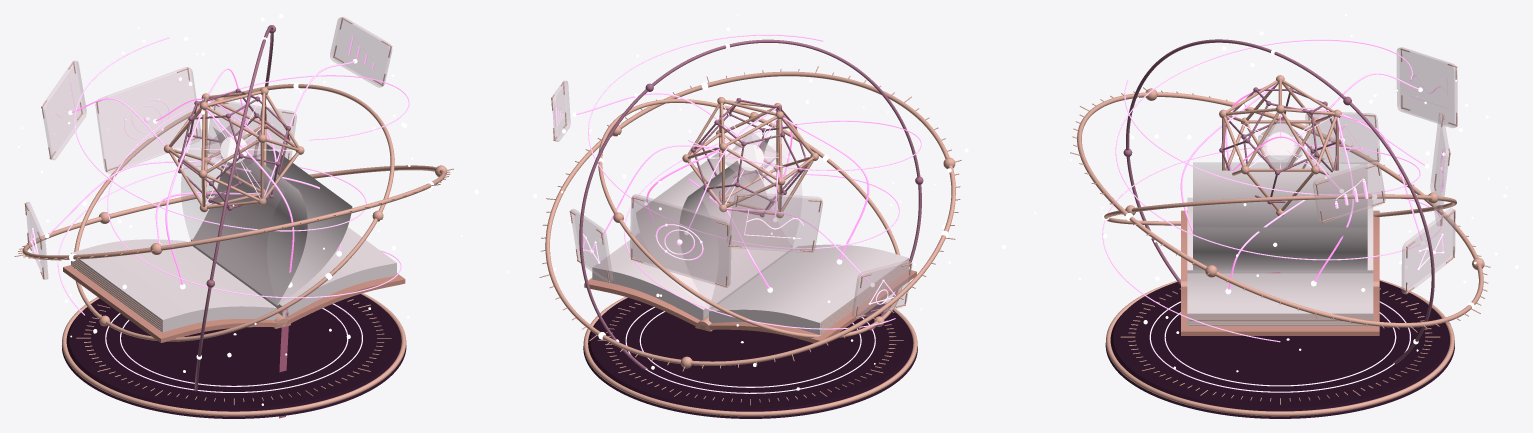
The model's file is knowledge-core.glb.
The picture shows the model from 3 angles, left to right: view 1: azimuth 30°, elevation 25°; view 2: azimuth 150°, elevation 25°; view 3: azimuth 270°, elevation 25°; orthographic projection. The views are drawn at different scales.
Visible parts, largest first — view 1: Book, Base, Lattice, Panel1, Paths, Ring1, Ring3, Panel4, Panel3, Panel2, Ring2, Panel5 (+1 smaller); view 2: Book, Base, Lattice, Panel1, Ring1, Paths, Panel3, Ring3, Ring2, Panel5, Panel2, Panel4 (+1 smaller); view 3: Book, Base, Lattice, Ring1, Paths, Panel3, Panel4, Ring2, Panel2, Panel5, Ring3, Panel1 (+1 smaller).
Boxes of the visible parts, left/top/right/bottom form: Book: left=63, top=127, right=405, bottom=418; Base: left=62, top=293, right=406, bottom=418; Lattice: left=164, top=87, right=304, bottom=212; Panel1: left=95, top=67, right=201, bottom=173; Paths: left=45, top=37, right=409, bottom=315; Ring1: left=14, top=165, right=453, bottom=261; Ring3: left=74, top=82, right=394, bottom=341; Panel4: left=330, top=17, right=392, bottom=87; Panel3: left=41, top=61, right=86, bottom=159; Panel2: left=207, top=101, right=296, bottom=159; Ring2: left=194, top=25, right=275, bottom=391; Panel5: left=24, top=202, right=47, bottom=279; Book: left=584, top=135, right=916, bottom=343; Base: left=583, top=297, right=917, bottom=418; Lattice: left=682, top=97, right=818, bottom=218; Panel1: left=630, top=194, right=731, bottom=287; Ring1: left=539, top=66, right=961, bottom=371; Paths: left=572, top=34, right=921, bottom=329; Panel3: left=727, top=192, right=822, bottom=252; Ring3: left=598, top=99, right=902, bottom=338; Ring2: left=579, top=39, right=923, bottom=369; Panel5: left=852, top=260, right=912, bottom=318; Panel2: left=569, top=209, right=613, bottom=283; Panel4: left=551, top=81, right=570, bottom=141; Book: left=1181, top=162, right=1379, bottom=335; Base: left=1105, top=279, right=1454, bottom=418; Lattice: left=1219, top=75, right=1341, bottom=216; Ring1: left=1070, top=87, right=1490, bottom=332; Paths: left=1102, top=39, right=1441, bottom=342; Panel3: left=1397, top=47, right=1457, bottom=127; Panel4: left=1313, top=161, right=1385, bottom=222; Ring2: left=1123, top=39, right=1434, bottom=363; Panel2: left=1401, top=208, right=1455, bottom=294; Panel5: left=1305, top=112, right=1380, bottom=164; Ring3: left=1102, top=192, right=1456, bottom=225; Panel1: left=1430, top=113, right=1450, bottom=225.
Size of the model in its own units: 2.58 by 2.07 by 2.61.
